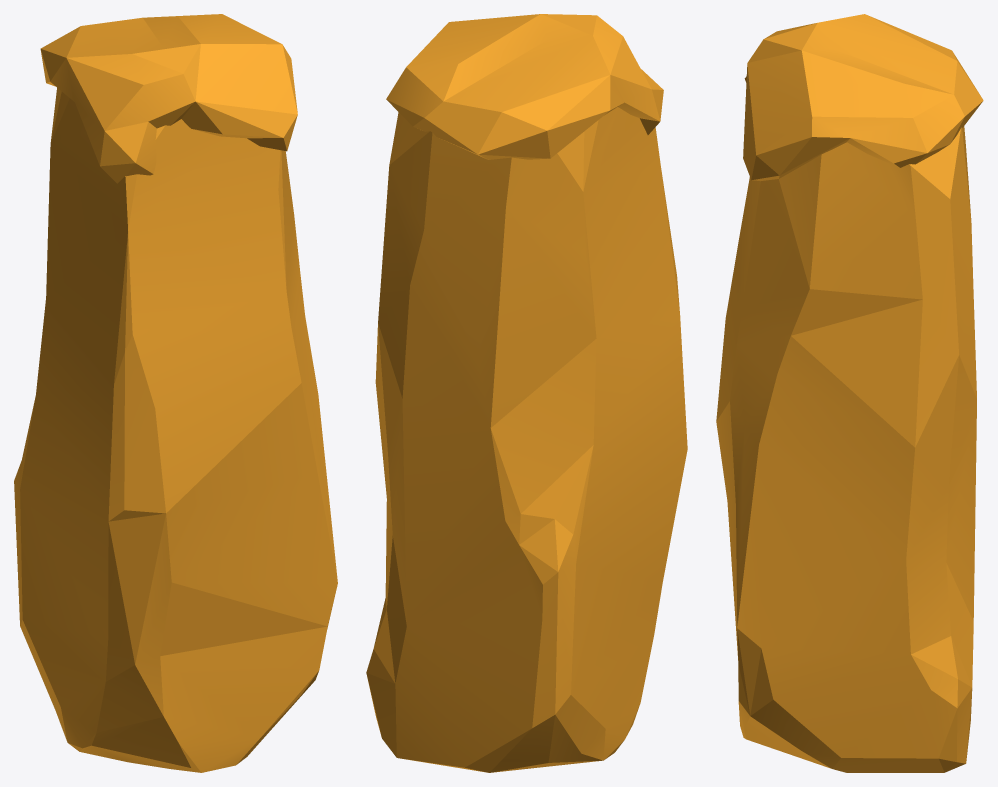
Rendered from SM_Menhir_B_Snow.fbx.
The picture shows the model from 3 angles, left to right: view 1: azimuth 30°, elevation 25°; view 2: azimuth 150°, elevation 25°; view 3: azimuth 270°, elevation 25°; orthographic projection. The views are drawn at different scales.
Visible parts, largest first — view 1: menhir-b-snow; view 2: menhir-b-snow; view 3: menhir-b-snow.
Boxes of the visible parts, x1=… form: menhir-b-snow: x1=14, y1=14, x2=337, y2=772; menhir-b-snow: x1=366, y1=14, x2=687, y2=772; menhir-b-snow: x1=716, y1=14, x2=983, y2=772.
Bounding box in the file's own units: 1.65 × 4.87 × 1.72.
